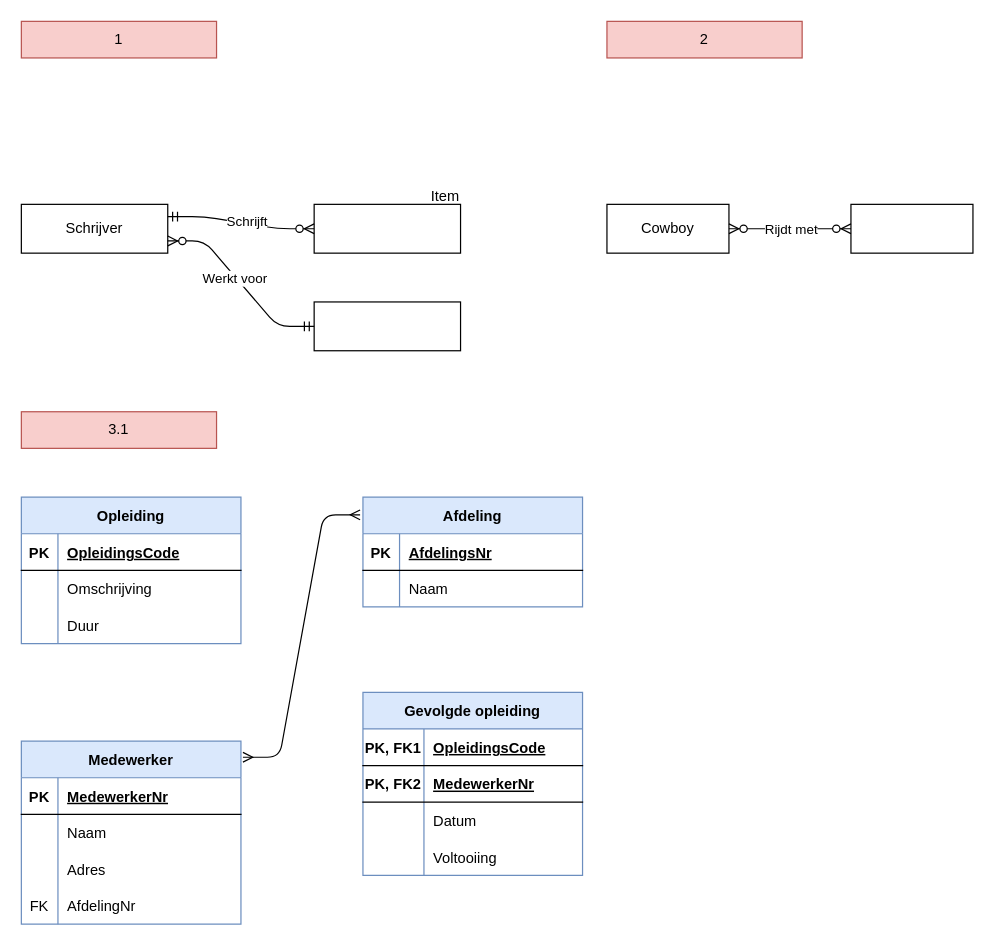
This 994x946 diagram has some shape labels left out. The centre of each missing label's shape, as x and y in pixels:
Boek: (387,228)
Paard: (911,228)
Uitgever: (387,326)
